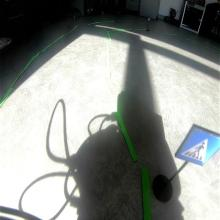crosswalk: (173, 125, 219, 167)
